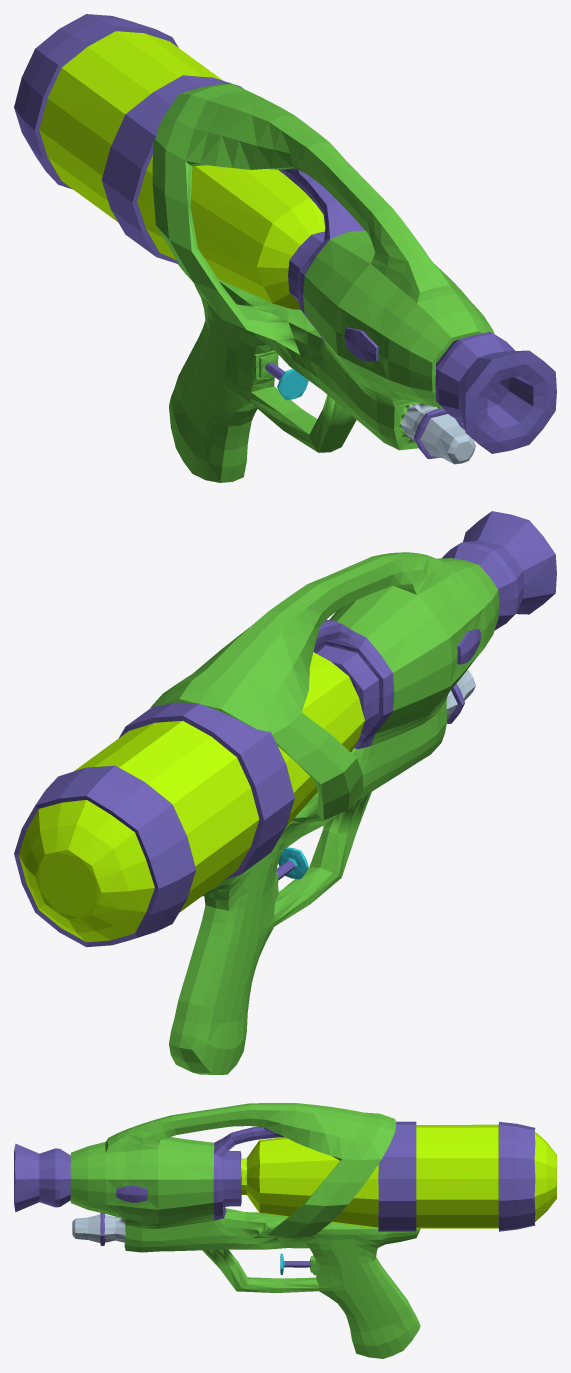
File: GooGun_01.fbx
3 views of the same model, one above another, from view 1: azimuth 30°, elevation 25°; view 2: azimuth 150°, elevation 25°; view 3: azimuth 270°, elevation 25° (orthographic). The views are drawn at different scales.
Visible parts, largest first — view 1: Watergun1; view 2: Watergun1; view 3: Watergun1.
Boxes of the visible parts, x1,y1,x2,y2 form: Watergun1: (14,14,556,482); Watergun1: (14,511,556,1074); Watergun1: (14,1103,556,1358).
Size of the model in its own units: 9.98 by 22.04 by 43.28.
